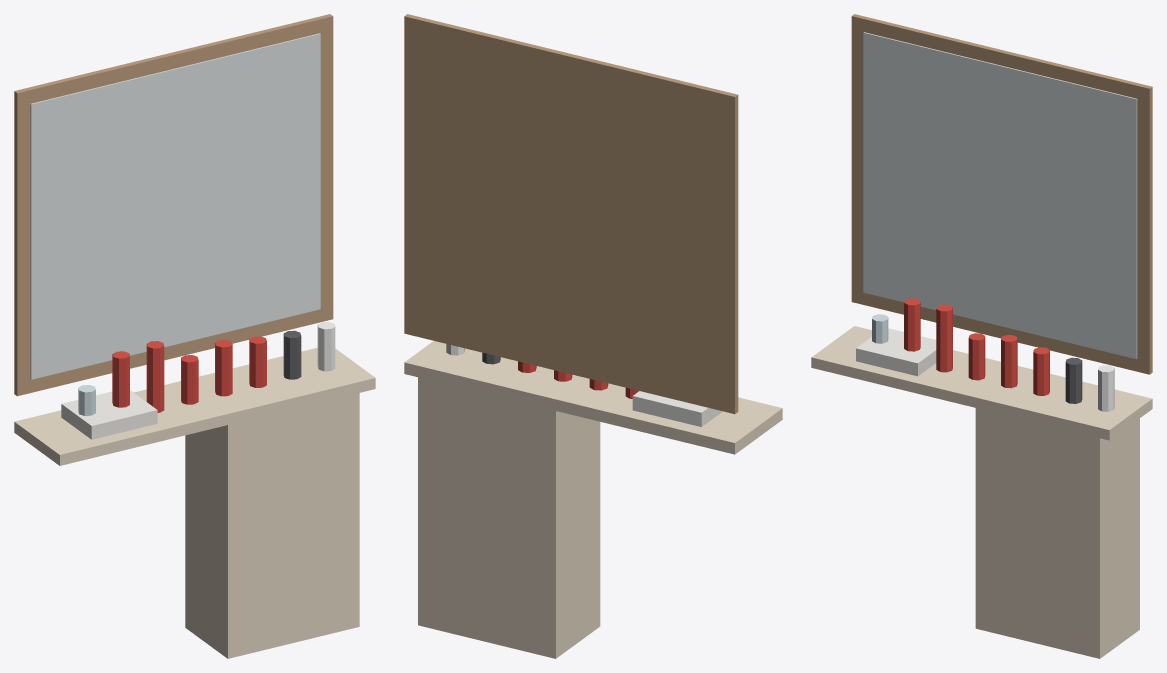
Rendered from Salon_Station.fbx.
The picture shows the model from 3 angles, left to right: view 1: azimuth 30°, elevation 25°; view 2: azimuth 150°, elevation 25°; view 3: azimuth 330°, elevation 25°; orthographic projection. The views are drawn at different scales.
Visible parts, largest first — view 1: Salon_Station; view 2: Salon_Station; view 3: Salon_Station.
Part boxes in pixels (x1,y1,x2,y2): Salon_Station: (14,14,375,658); Salon_Station: (404,14,782,658); Salon_Station: (811,14,1152,658).
Bounding box in the file's own units: 1.2 × 2.1 × 0.3.
